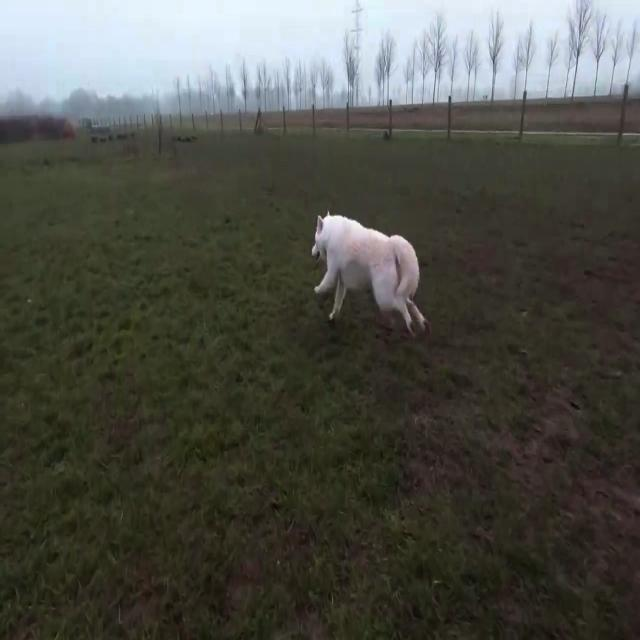Dog: (311, 210, 432, 336)
